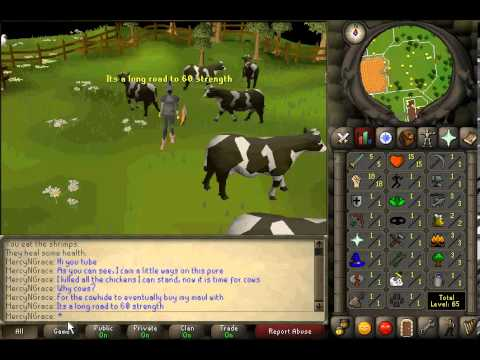rs_cow: (202, 127, 324, 201), (201, 84, 268, 125), (111, 70, 161, 114), (181, 59, 226, 89), (239, 55, 260, 88)
rs_player: (156, 82, 186, 148)
